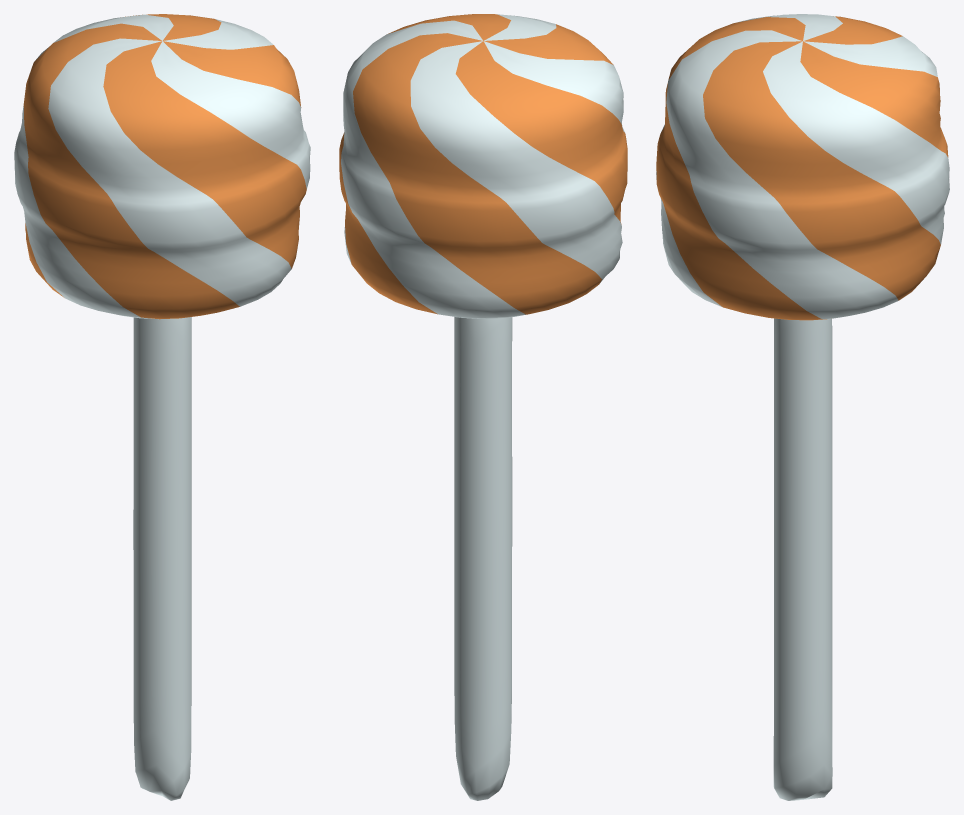
File: Lollipop_C_02.fbx
The picture shows the model from 3 angles, left to right: view 1: azimuth 30°, elevation 25°; view 2: azimuth 150°, elevation 25°; view 3: azimuth 270°, elevation 25°; orthographic projection.
Parts seen in each view (by area): view 1: Lollipop_C_02_LOD0; view 2: Lollipop_C_02_LOD0; view 3: Lollipop_C_02_LOD0.
Boxes of the visible parts, bbox=[...] form: Lollipop_C_02_LOD0: bbox=[14, 14, 310, 800]; Lollipop_C_02_LOD0: bbox=[339, 14, 627, 800]; Lollipop_C_02_LOD0: bbox=[656, 14, 949, 800].
Size of what is drawn, in the model's own units: 369 by 1052 by 369.
